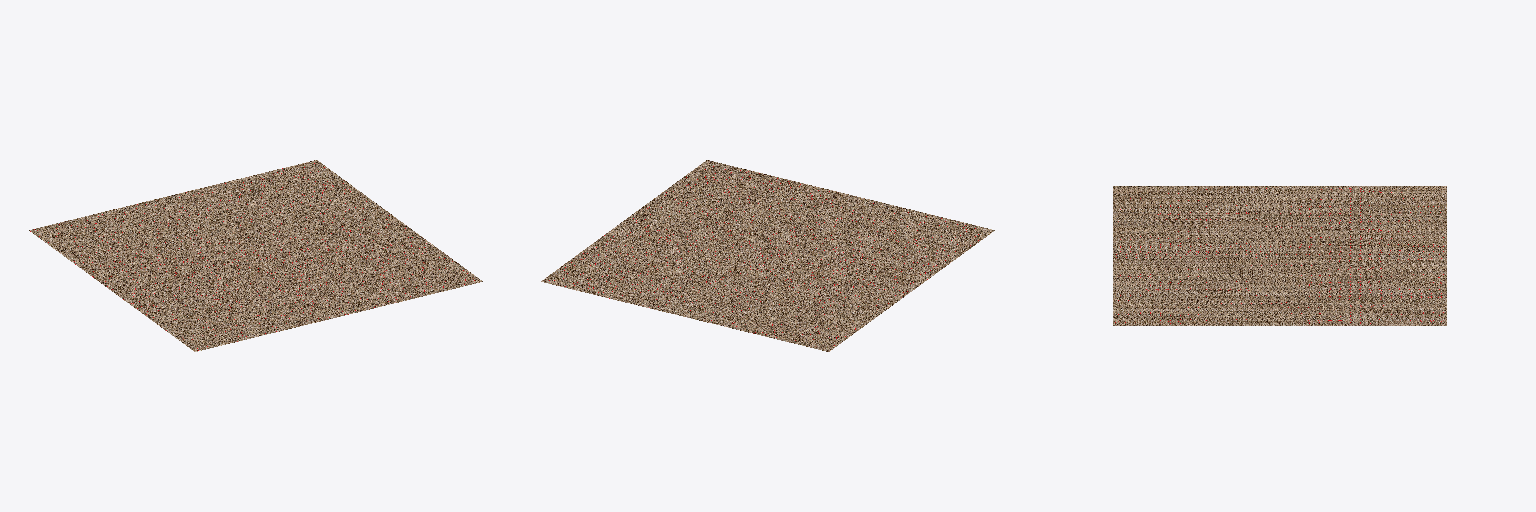
The picture shows the model from 3 angles: view 1: azimuth 30°, elevation 25°; view 2: azimuth 150°, elevation 25°; view 3: azimuth 270°, elevation 25°; orthographic projection.
Parts seen in each view (by area): view 1: Plane001; view 2: Plane001; view 3: Plane001.
Part boxes in pixels (x1,y1,x2,y2): Plane001: (29,160,482,351); Plane001: (541,160,994,351); Plane001: (1113,186,1446,325).
Bounding box in the file's own units: 200 × 0 × 200.
1 materials, 1 textured.